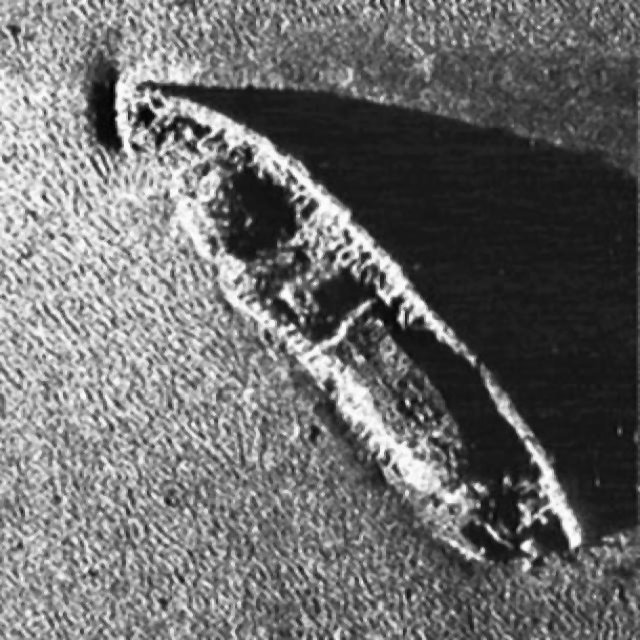Ship: (90, 61, 593, 577)
